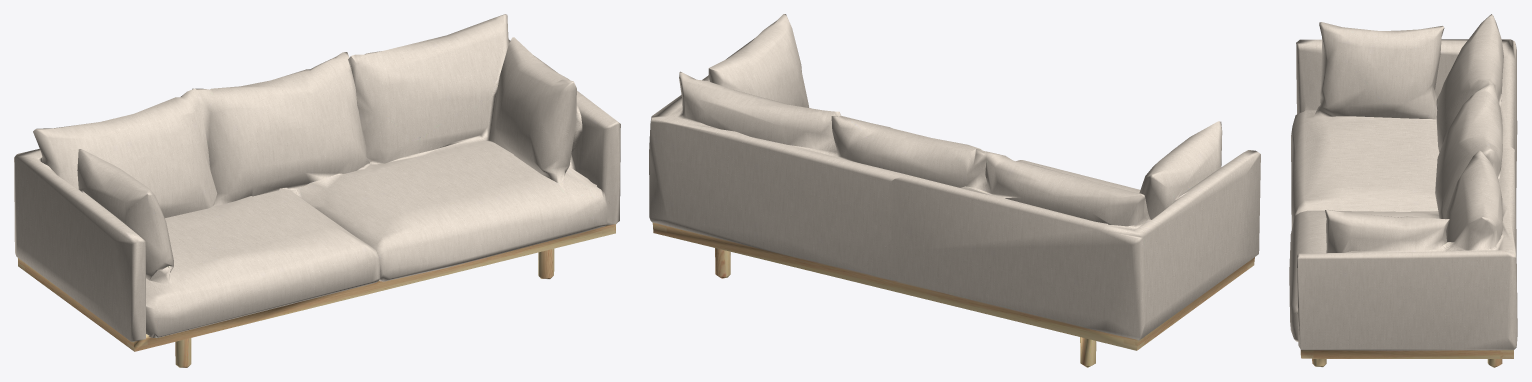
File: stockholm-2025-sofa-de-3-plazas-sundhamn-beige-90586092.glb
3 renders of one model, left to right at view 1: azimuth 30°, elevation 25°; view 2: azimuth 150°, elevation 25°; view 3: azimuth 270°, elevation 25°, orthographic. The views are drawn at different scales.
Visible parts, largest first — view 1: ASY_ART_90586092_S01_NV01; view 2: ASY_ART_90586092_S01_NV01; view 3: ASY_ART_90586092_S01_NV01.
Part boxes in pixels (box(x1,y1,x2,y2)): ASY_ART_90586092_S01_NV01: box(14, 14, 620, 367); ASY_ART_90586092_S01_NV01: box(649, 14, 1260, 367); ASY_ART_90586092_S01_NV01: box(1289, 14, 1517, 367).
Size of the model in its own units: 2.36 by 0.8516 by 1.03.
Materials: 1 (1 with a texture image).
